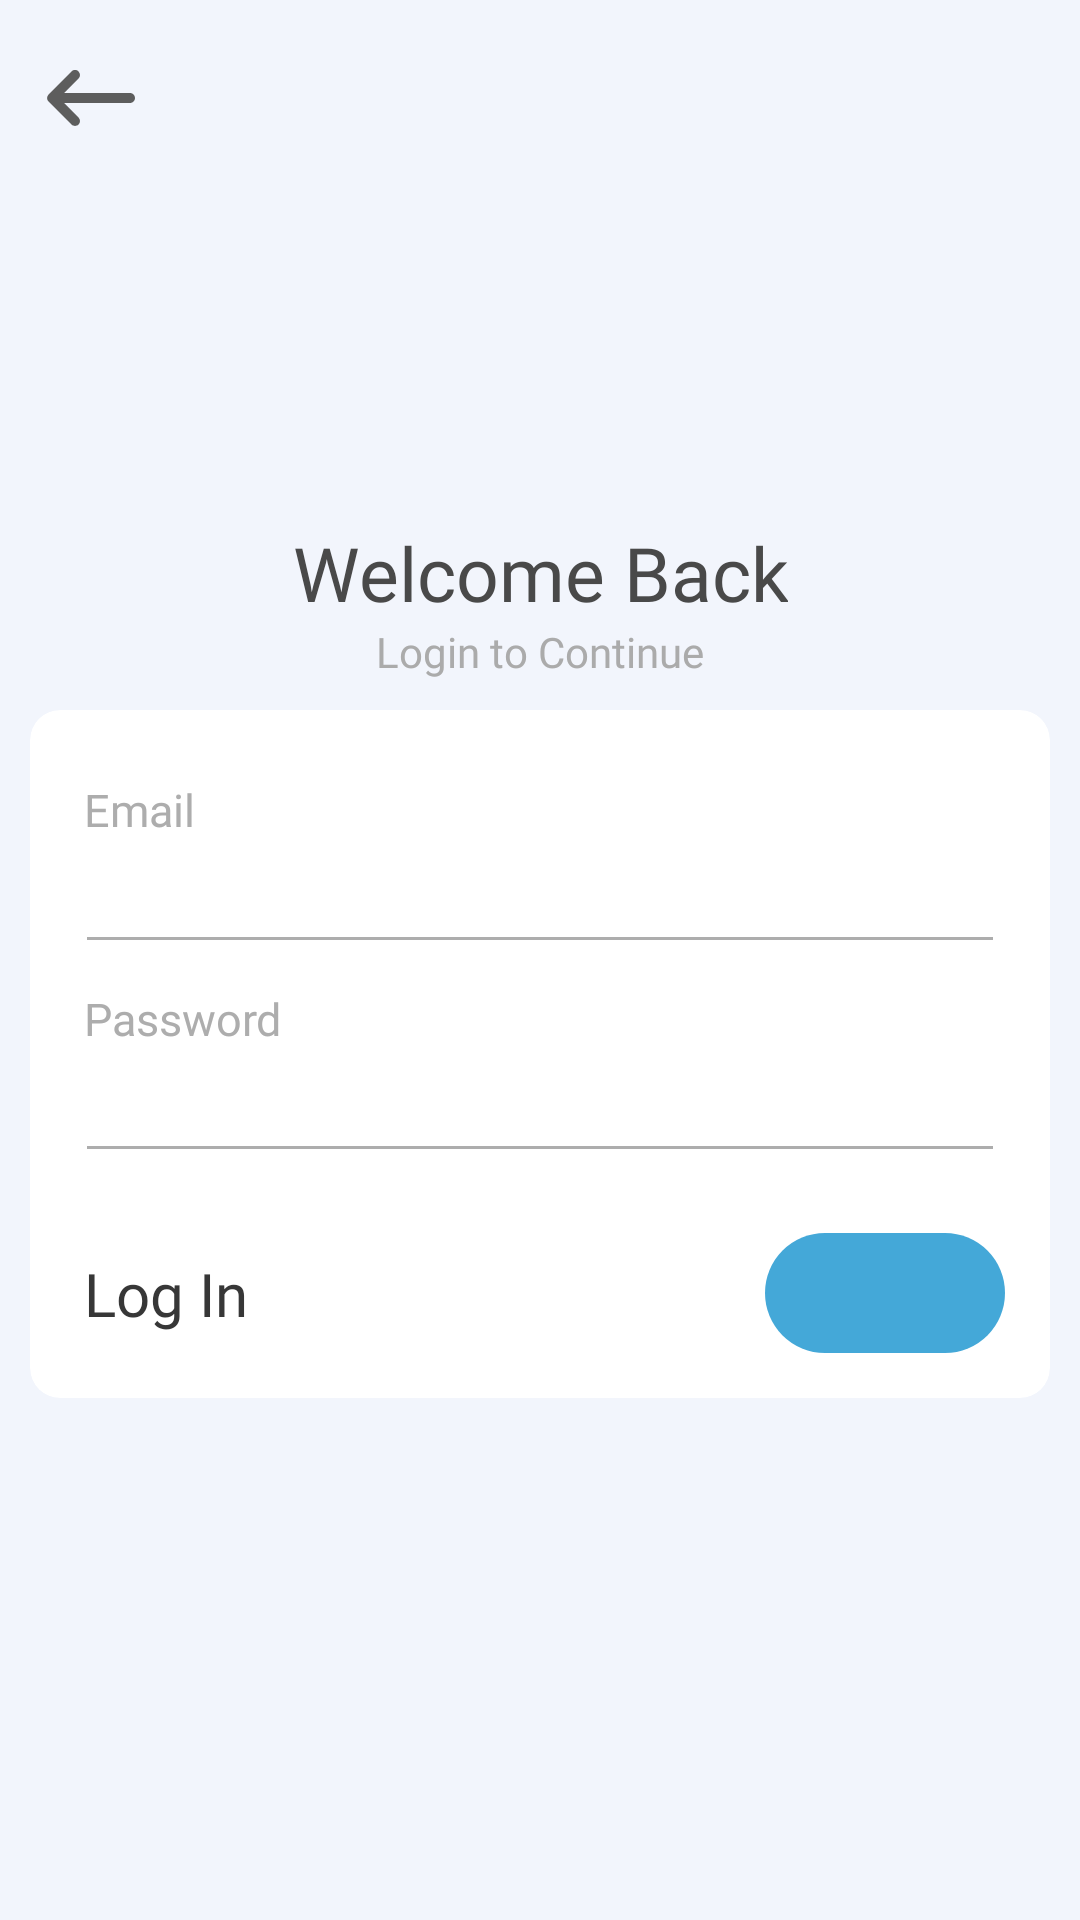

Screen size 1080 × 1920. Icon name, then its center in pixels as point (x, y):
back rounded: point (91, 98)
